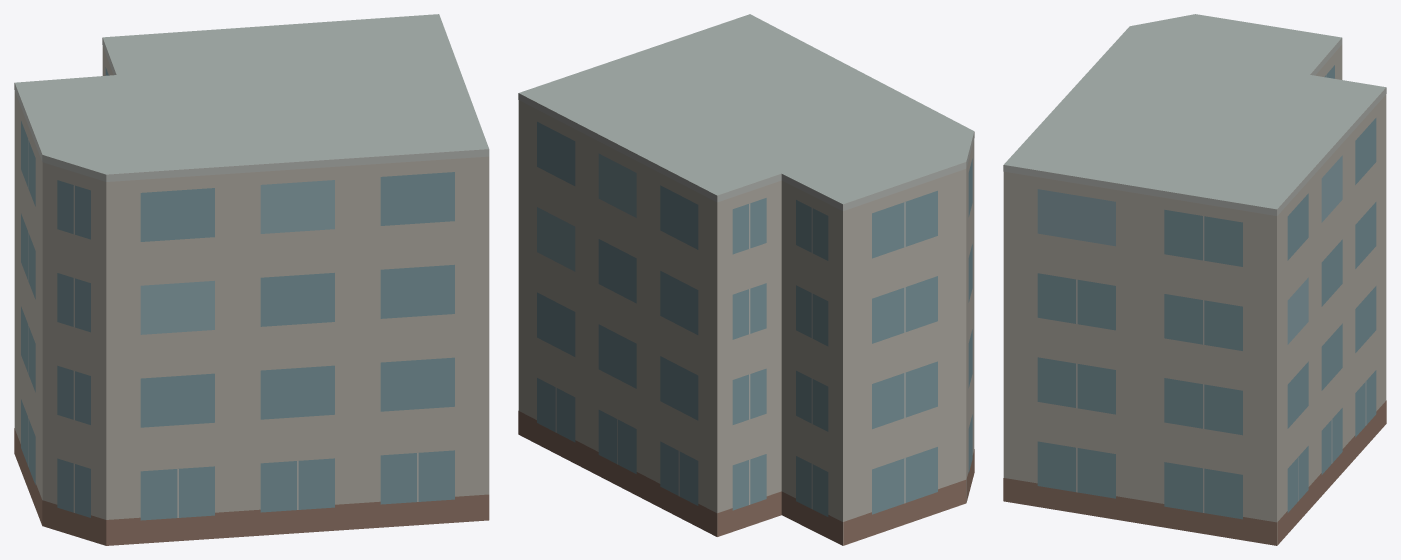
The model's file is survey-upis-32870969.glb.
3 views of the same model, side by side, from view 1: azimuth 30°, elevation 25°; view 2: azimuth 150°, elevation 25°; view 3: azimuth 270°, elevation 25° (orthographic). The views are drawn at different scales.
Parts seen in each view (by area): view 1: survey-upis-32870969.tmp; view 2: survey-upis-32870969.tmp; view 3: survey-upis-32870969.tmp.
Boxes of the visible parts, x1,y1,x2,y2 form: survey-upis-32870969.tmp: (14, 14, 489, 545); survey-upis-32870969.tmp: (518, 14, 974, 545); survey-upis-32870969.tmp: (1003, 14, 1386, 545).
Bounding box in the file's own units: 15.14 × 12.15 × 12.54.
